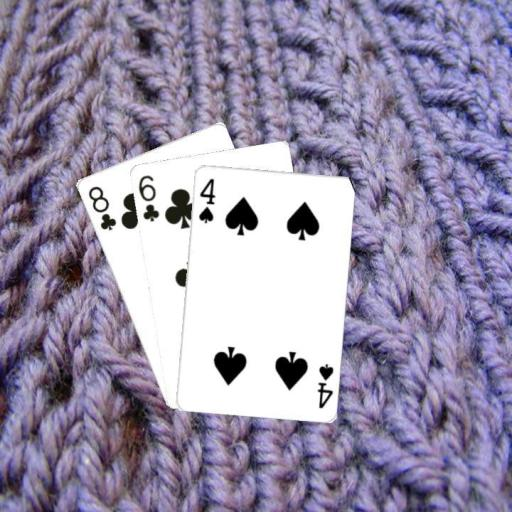4S: (195, 174, 216, 224), (314, 360, 335, 410)
6C: (134, 172, 161, 223)
8C: (85, 182, 117, 232)
